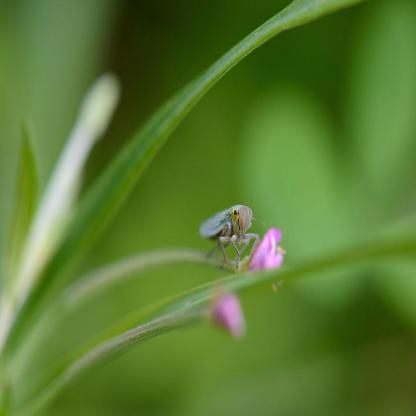Green-Leafhopper: (195, 197, 262, 280)
